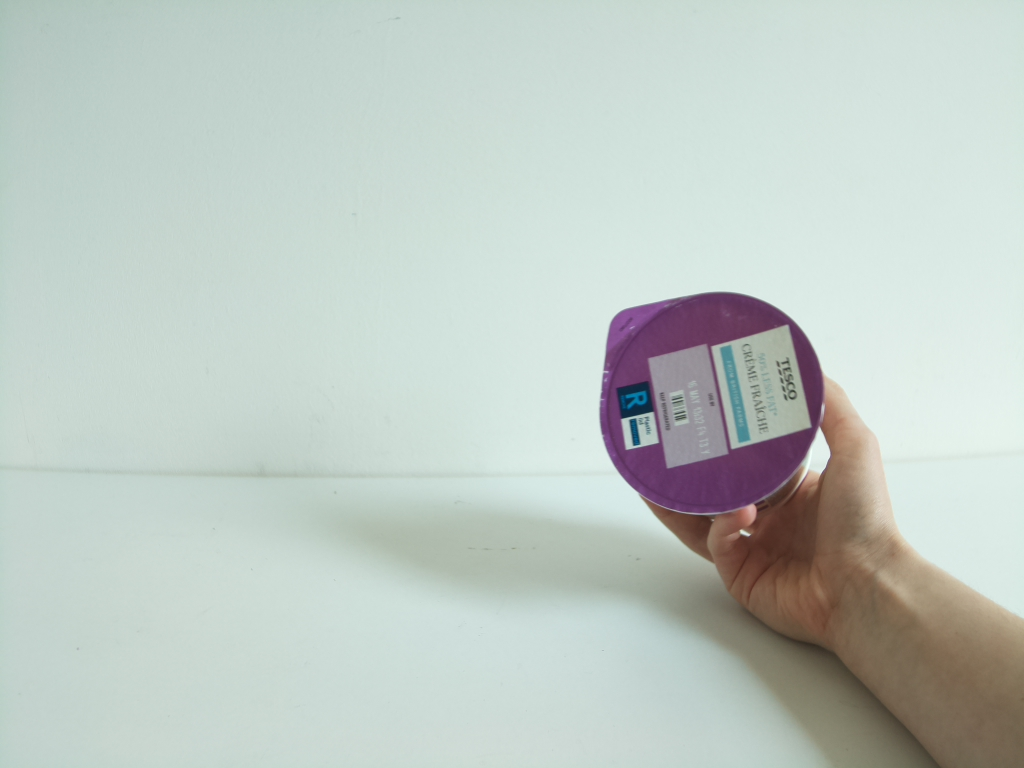cream: (598, 289, 824, 514)
